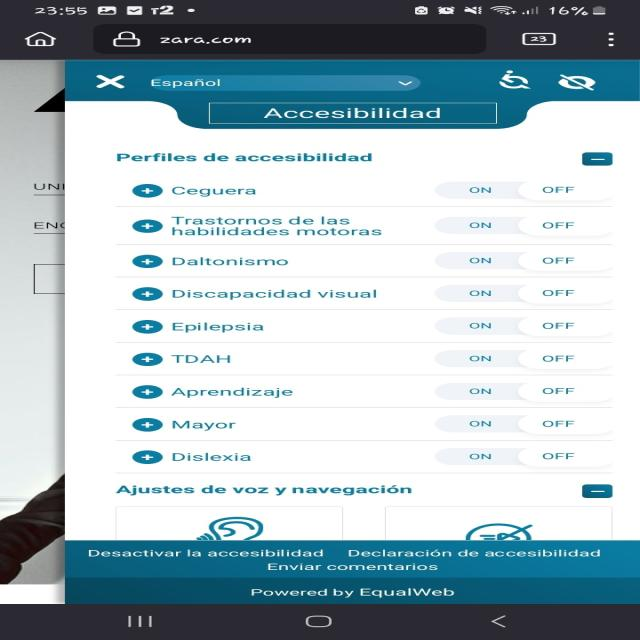button: (89, 72, 135, 91)
site: (69, 61, 640, 602)
